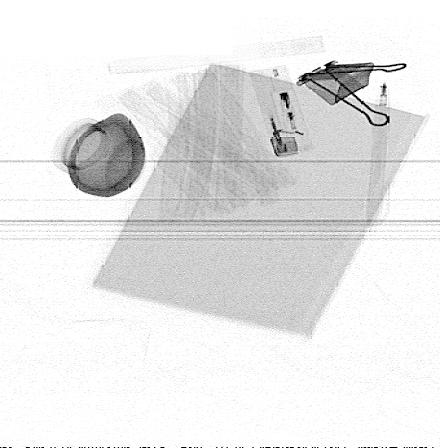Lighter: (247, 65, 313, 159)
